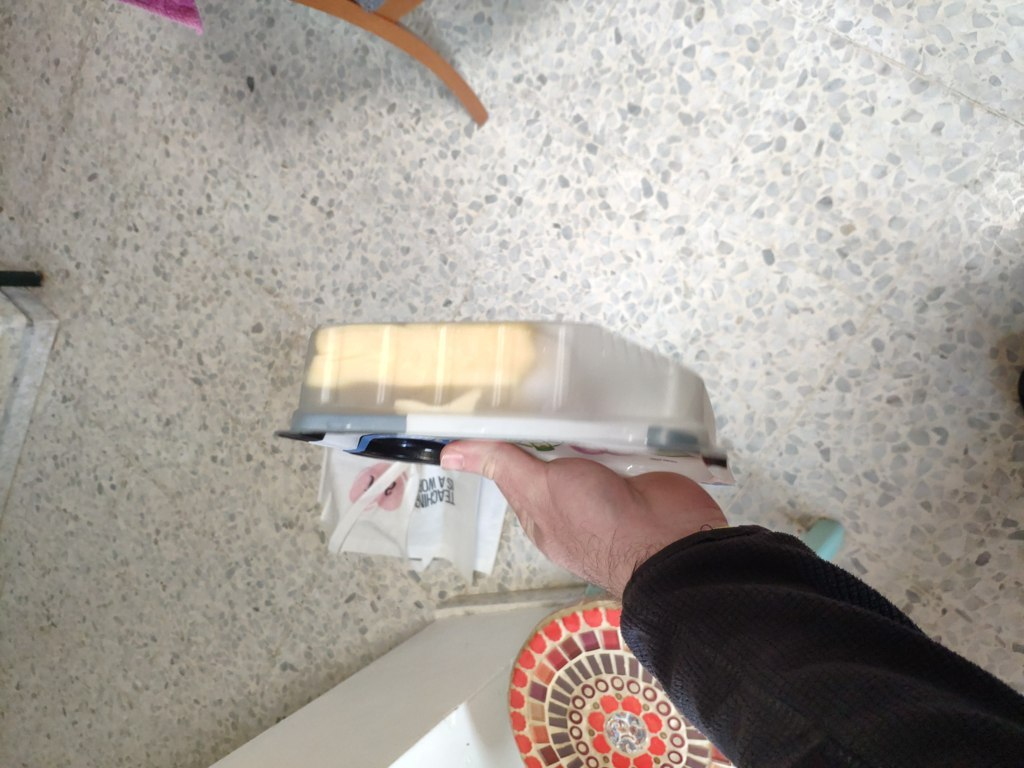Cheese: (321, 207, 797, 665)
